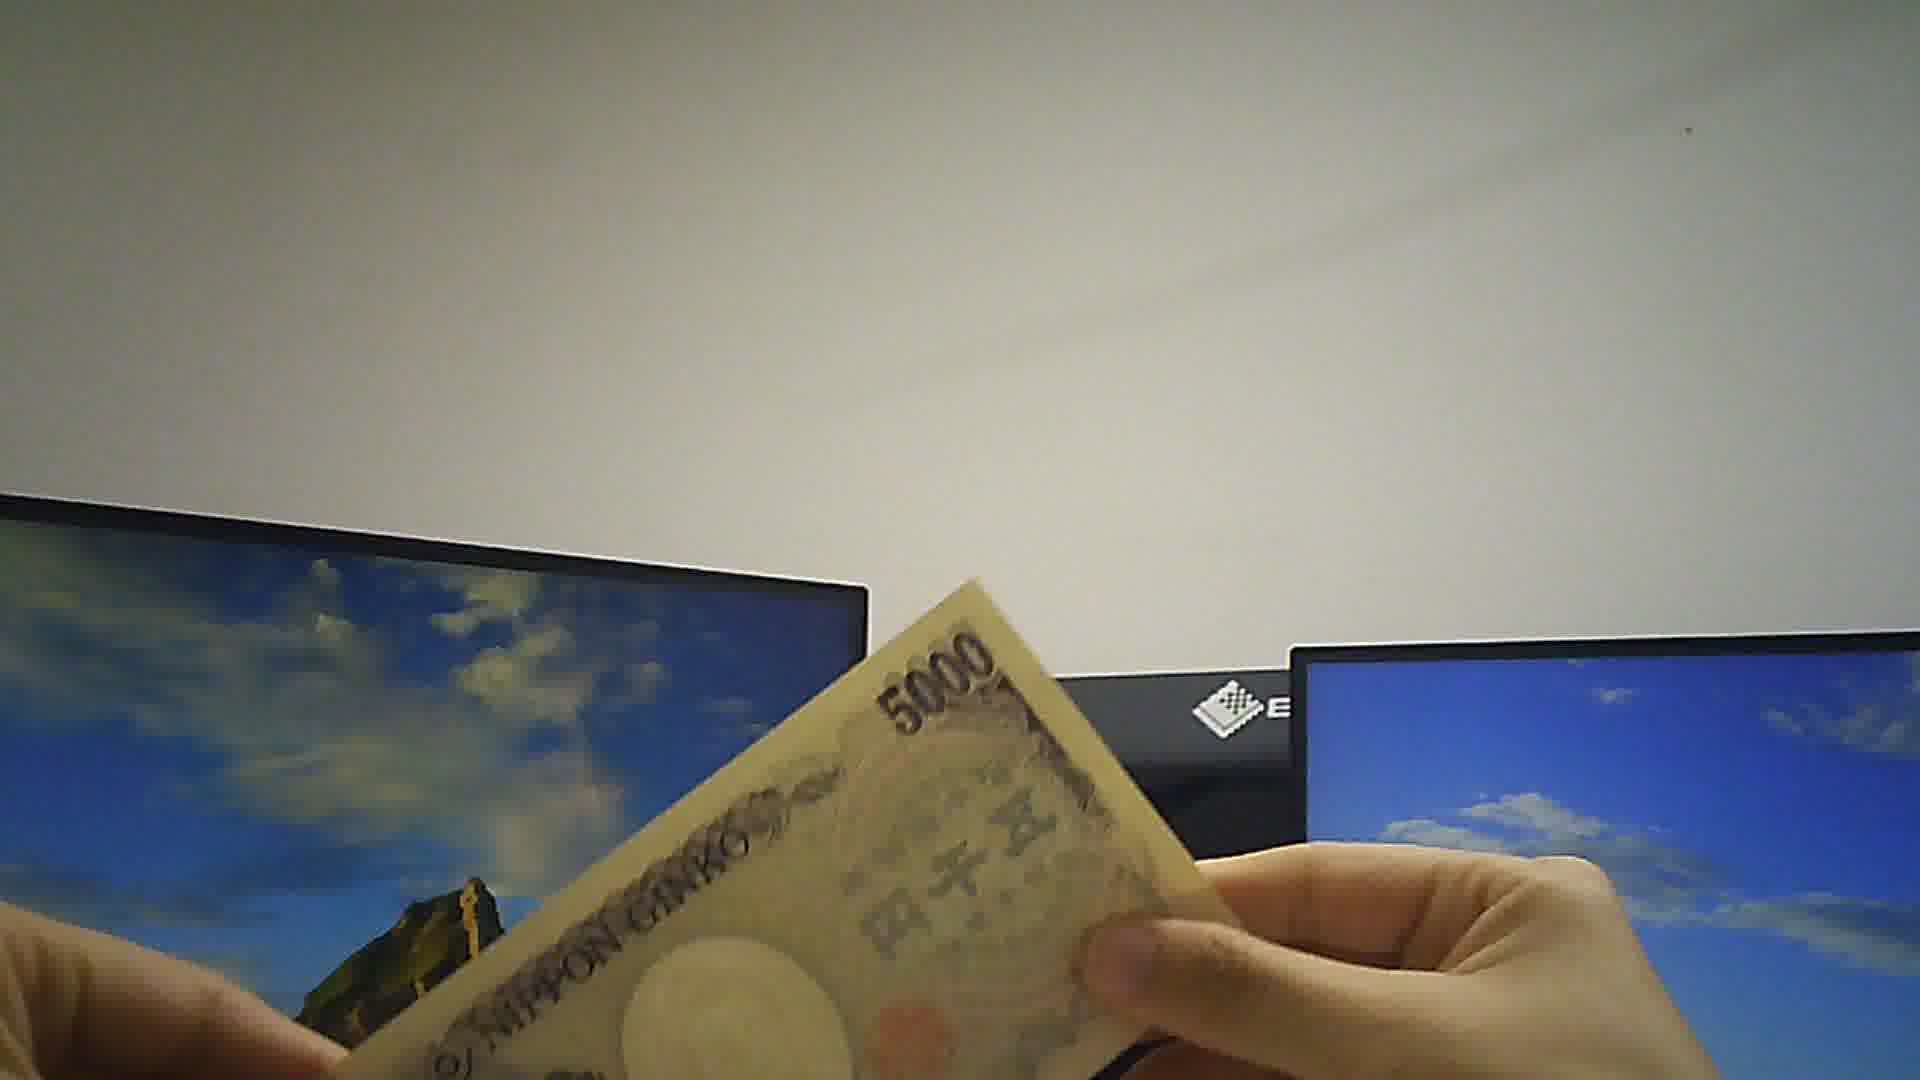5,000 Yen: (264, 559, 1228, 1079)
